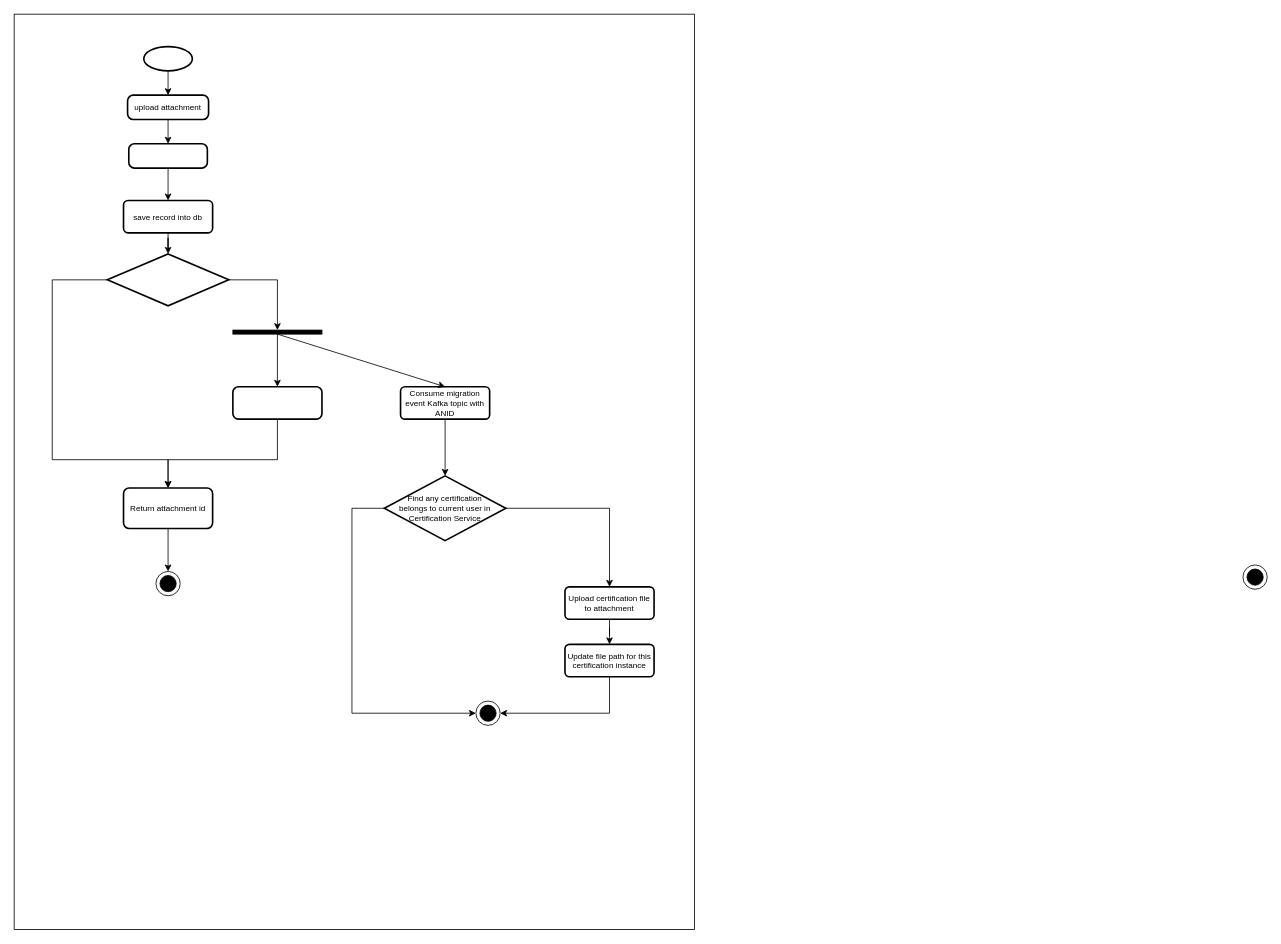
Image size: 1281x944. Some labels were removed from this diagram. The centre of each missing label's shape, as x and y in pixels:
Has source generation task: (x=167, y=279)
Map to Certification Service POJO: (x=277, y=403)
Save into NFS: (x=168, y=155)
Start: (x=168, y=58)
